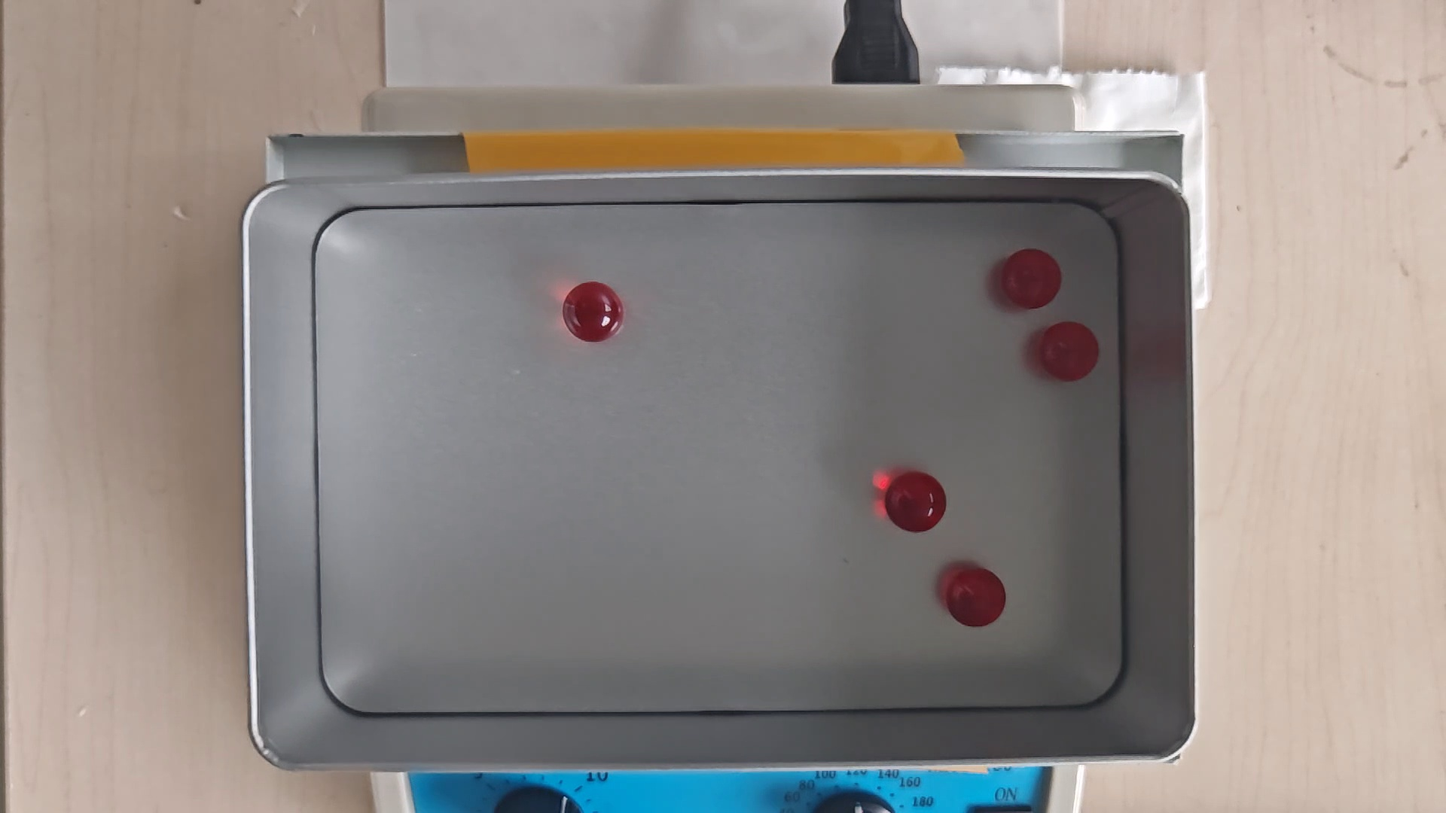ball: (884, 470, 947, 531), (1002, 248, 1063, 310), (1039, 321, 1100, 383), (562, 283, 626, 342), (946, 568, 1007, 629)
container: (317, 201, 1123, 713)
